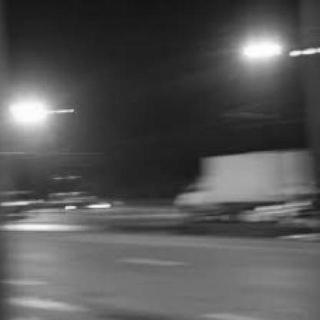other: (222, 33, 288, 74), (14, 91, 52, 127)
